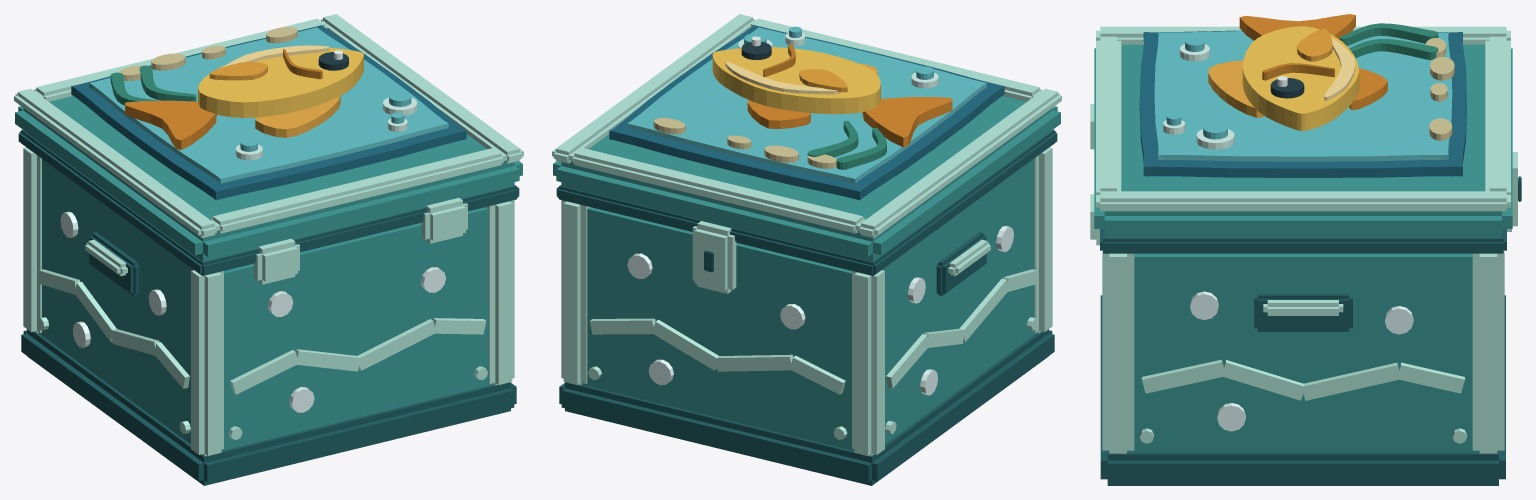
The model's file is crate_aquario.fbx.
3 views of the same model, side by side, from view 1: azimuth 30°, elevation 25°; view 2: azimuth 150°, elevation 25°; view 3: azimuth 270°, elevation 25° (orthographic). The views are drawn at different scales.
Parts seen in each view (by area): view 1: crate_aquario_caixa; view 2: crate_aquario_caixa; view 3: crate_aquario_caixa.
Part boxes in pixels (<box>): crate_aquario_caixa: <box>14,14,523,485</box>; crate_aquario_caixa: <box>552,14,1061,485</box>; crate_aquario_caixa: <box>1090,14,1521,485</box>.
Bounding box in the file's own units: 2.68 × 2.47 × 2.7.
1 material, 1 textured.
